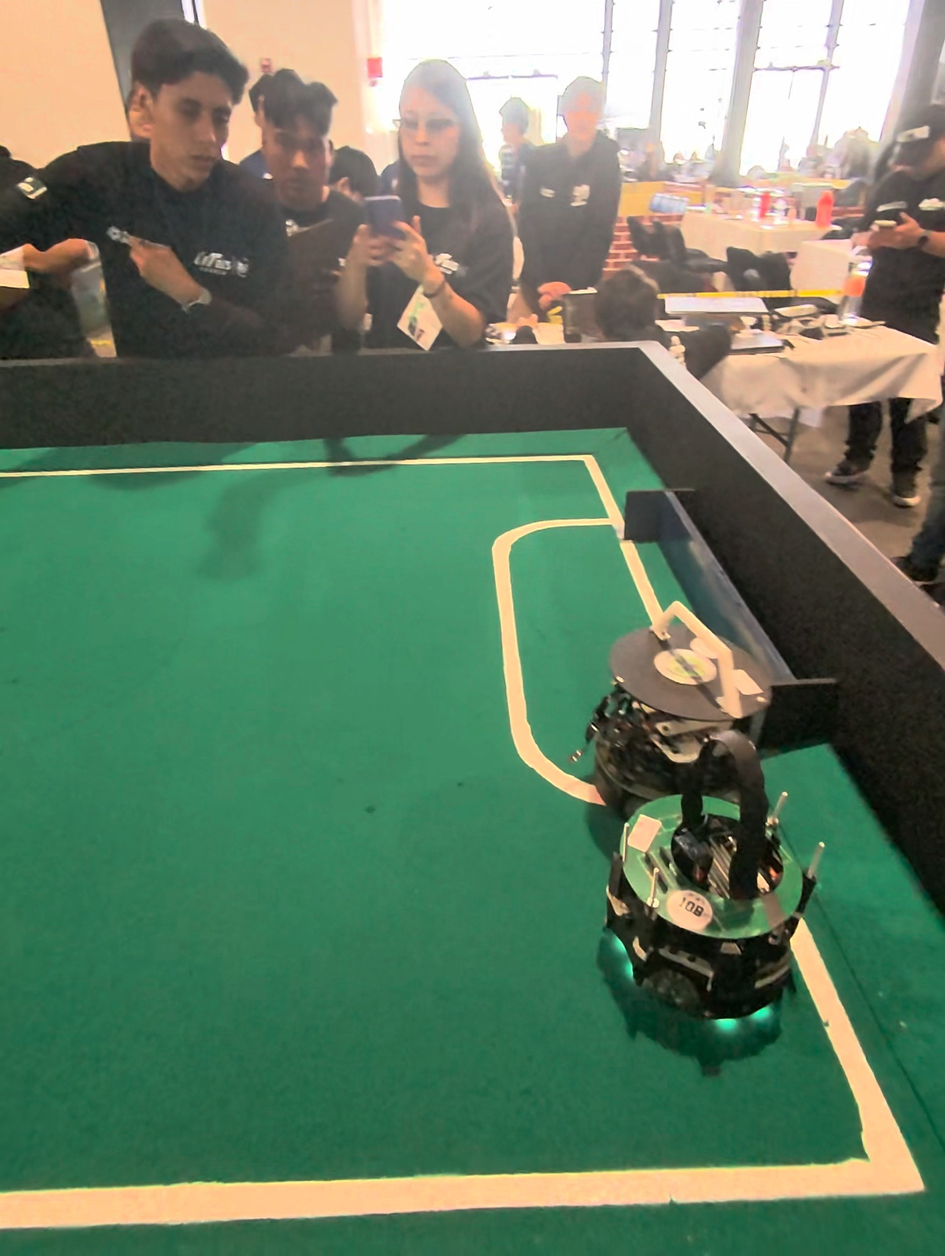Robot: (577, 743, 844, 1067), (588, 591, 779, 797)
